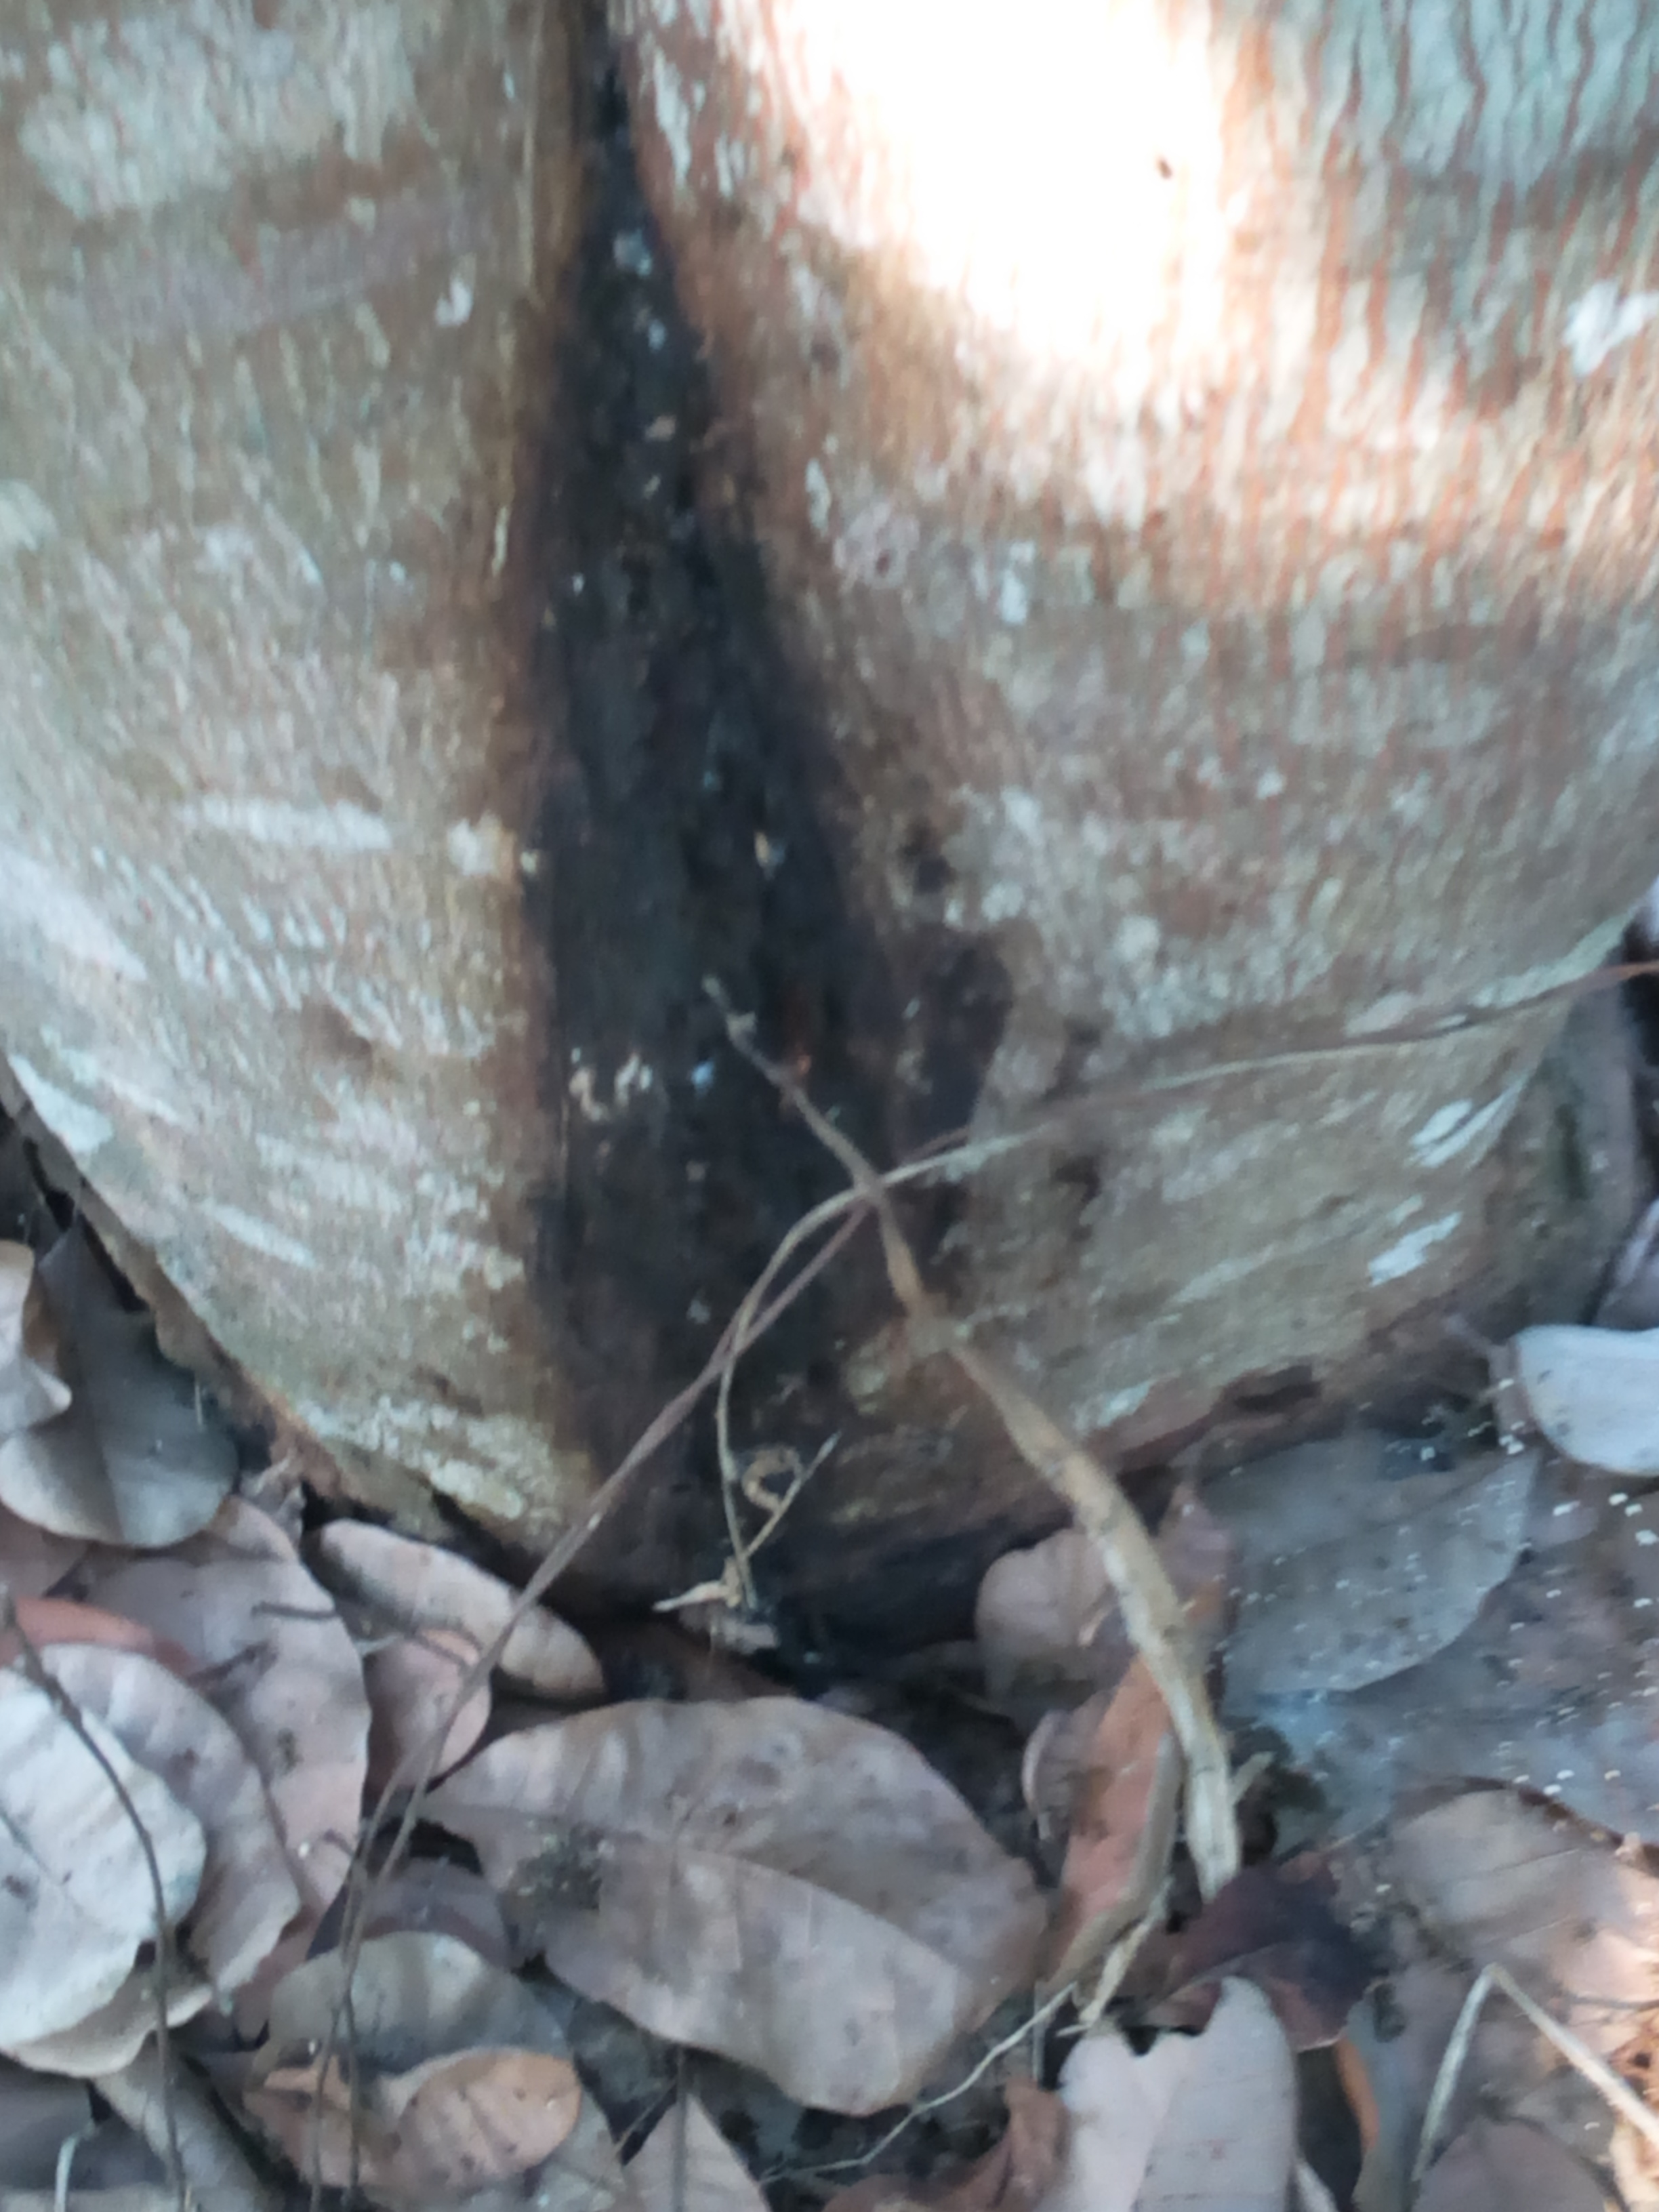Gommose: (545, 225, 938, 1526)
